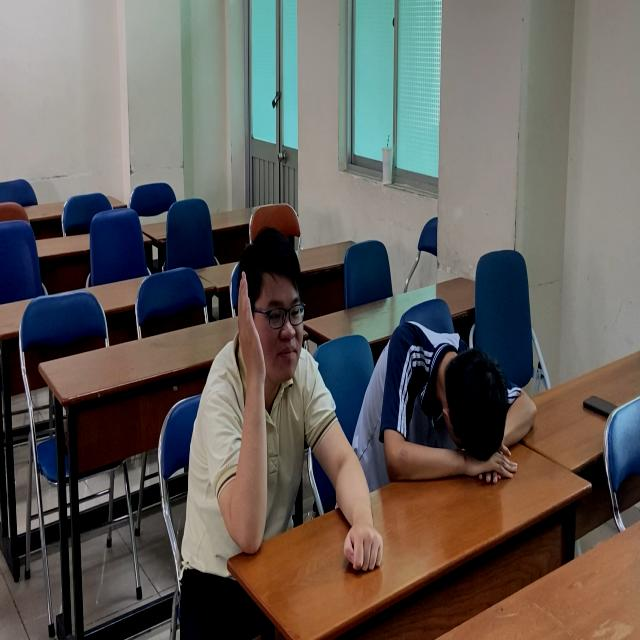raise_hand: (195, 231, 329, 563)
sleep: (359, 299, 539, 488)
